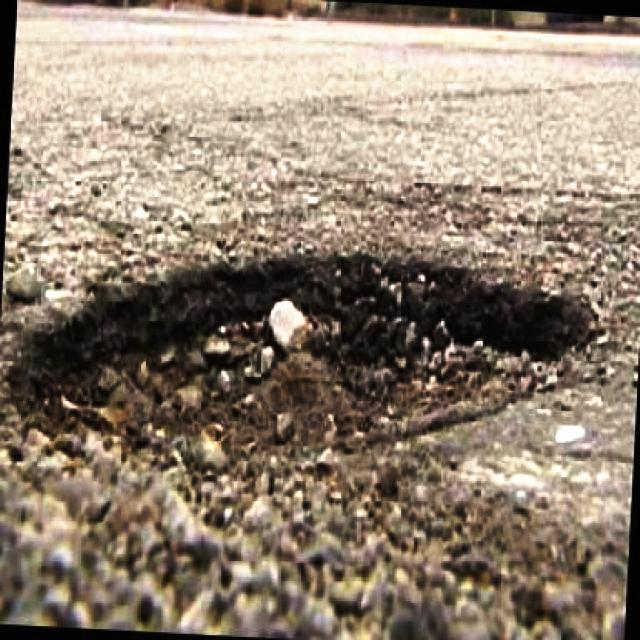pothole: (0, 240, 612, 481)
